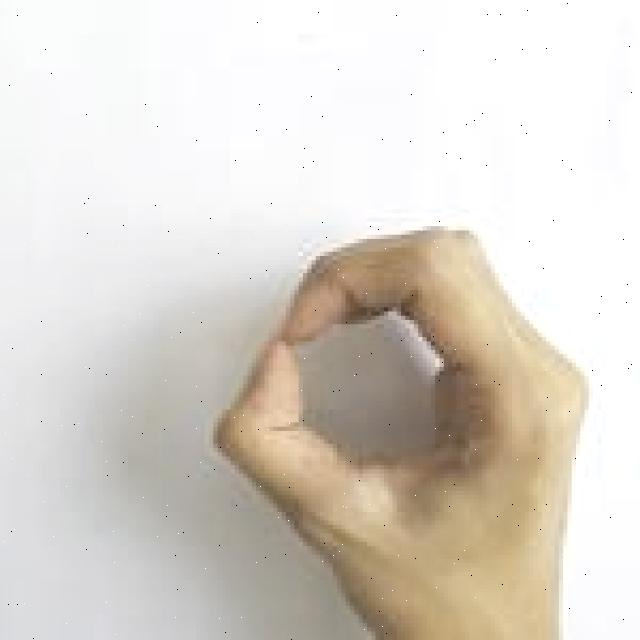O: (207, 215, 600, 640)
